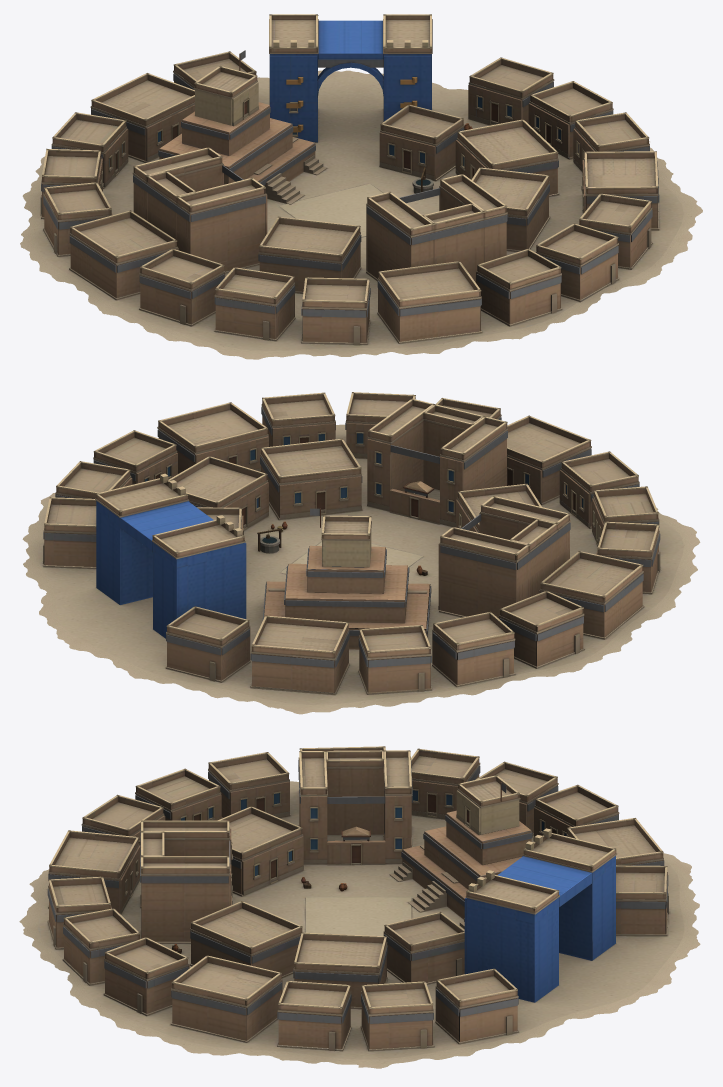
File: bronze-town-big-a-levant-a212e91b.glb
The picture shows the model from 3 angles, top to bottom: view 1: azimuth 30°, elevation 25°; view 2: azimuth 150°, elevation 25°; view 3: azimuth 270°, elevation 25°; orthographic projection.
Parts seen in each view (by area): view 1: LOD0; view 2: LOD0; view 3: LOD0.
Part boxes in pixels (x1=…): LOD0: x1=20, y1=14, x2=702, y2=359; LOD0: x1=22, y1=392, x2=700, y2=714; LOD0: x1=19, y1=746, x2=700, y2=1068.
Size of what is drawn, in the model's own units: 7.94 by 1.52 by 7.9.
3 materials, 3 textured.
